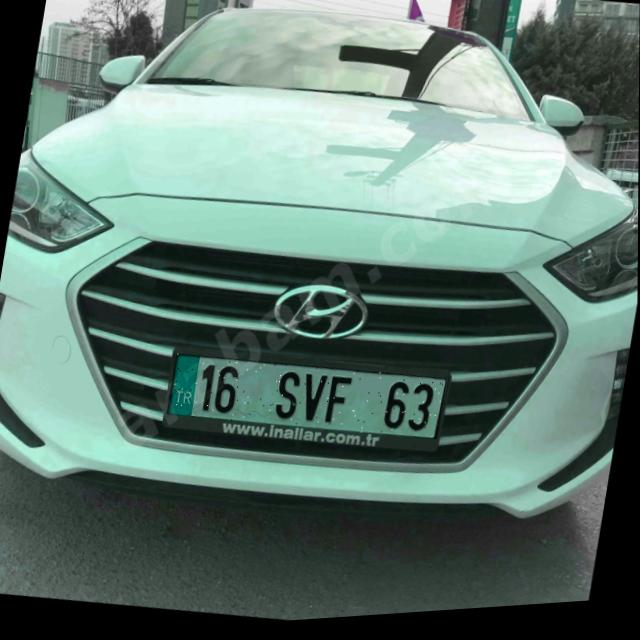license_plate: (167, 342, 447, 460)
